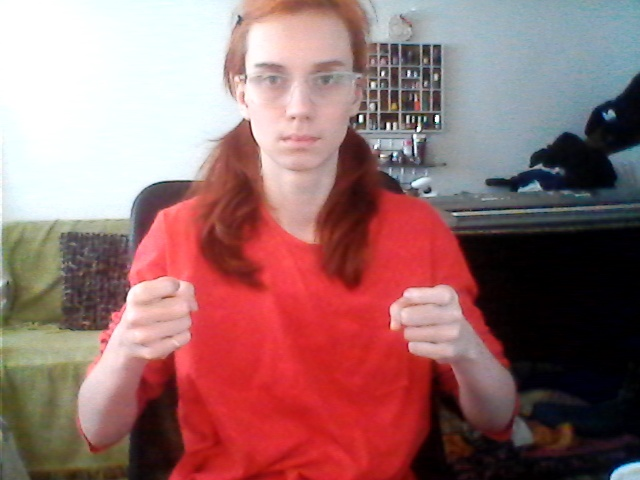davat: (113, 266, 472, 376)
